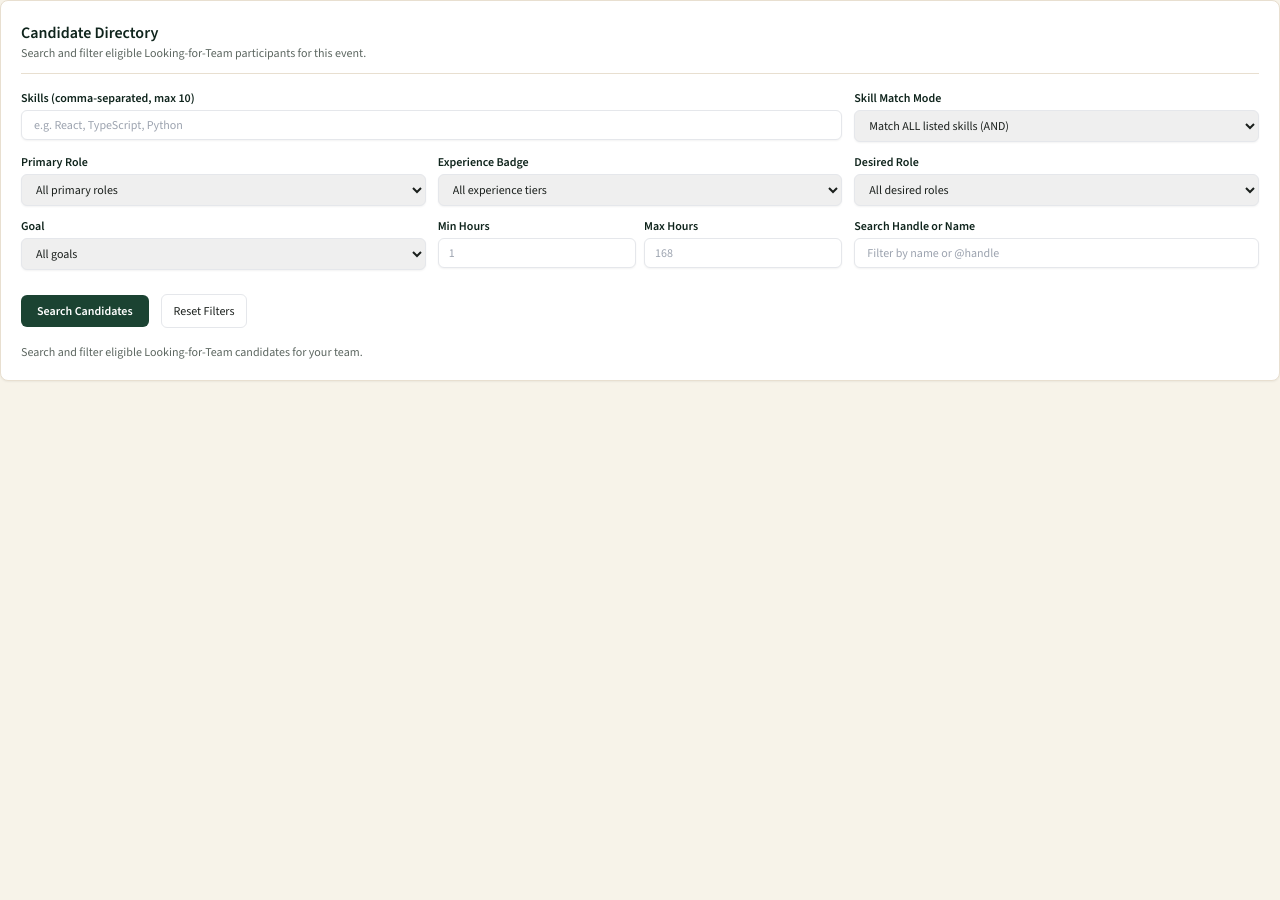
it: CandidateDirectoryPanel (US-014-T4 / #139) › preserves user input and previously loaded results on server error (NR-010, NR-017)
Type "React" into the field with test id "directory-skills-input" at {"x": 432, "y": 125}, box [21,110,842,140]
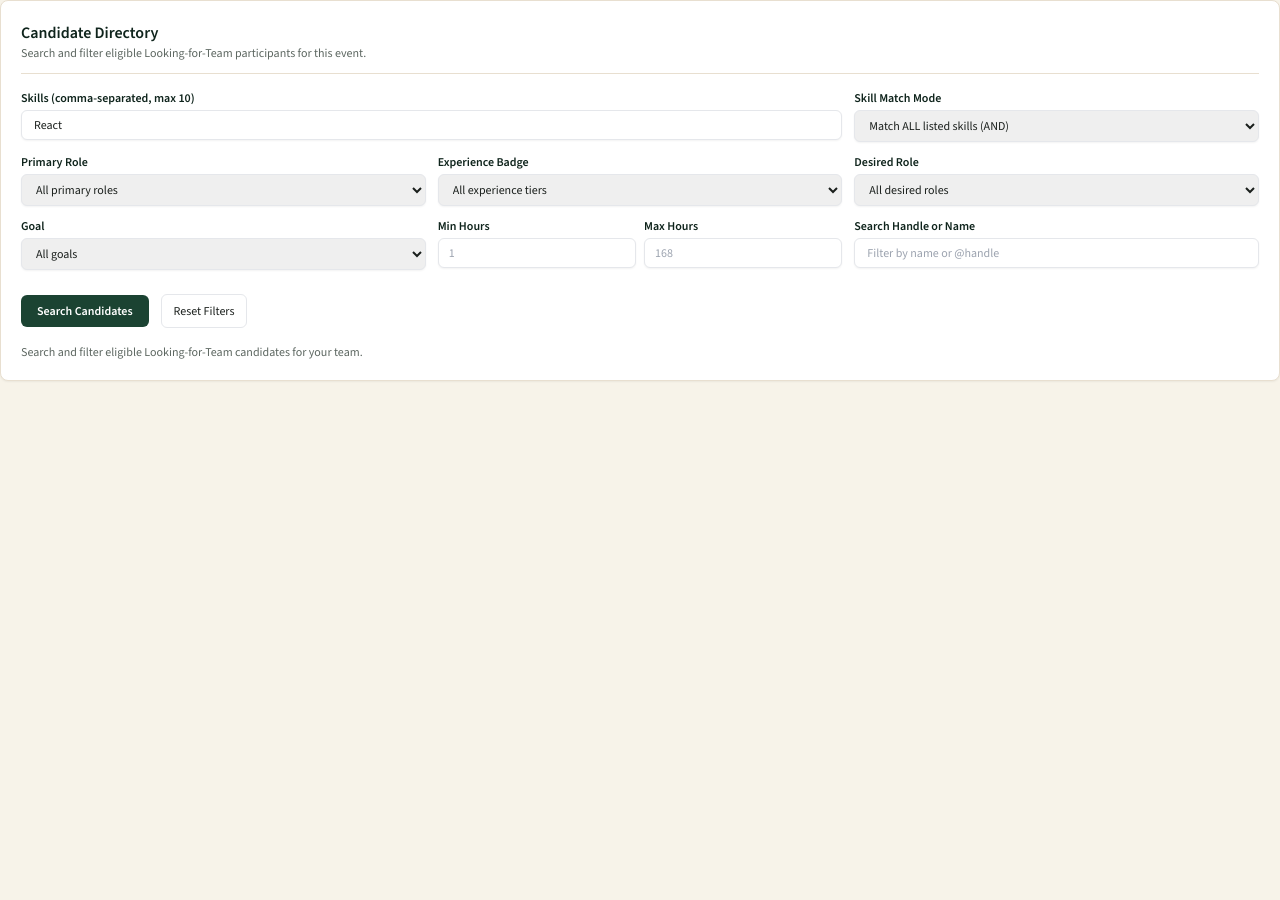
Click the button with test id "directory-search-submit" at {"x": 85, "y": 311}, box [21,295,149,327]
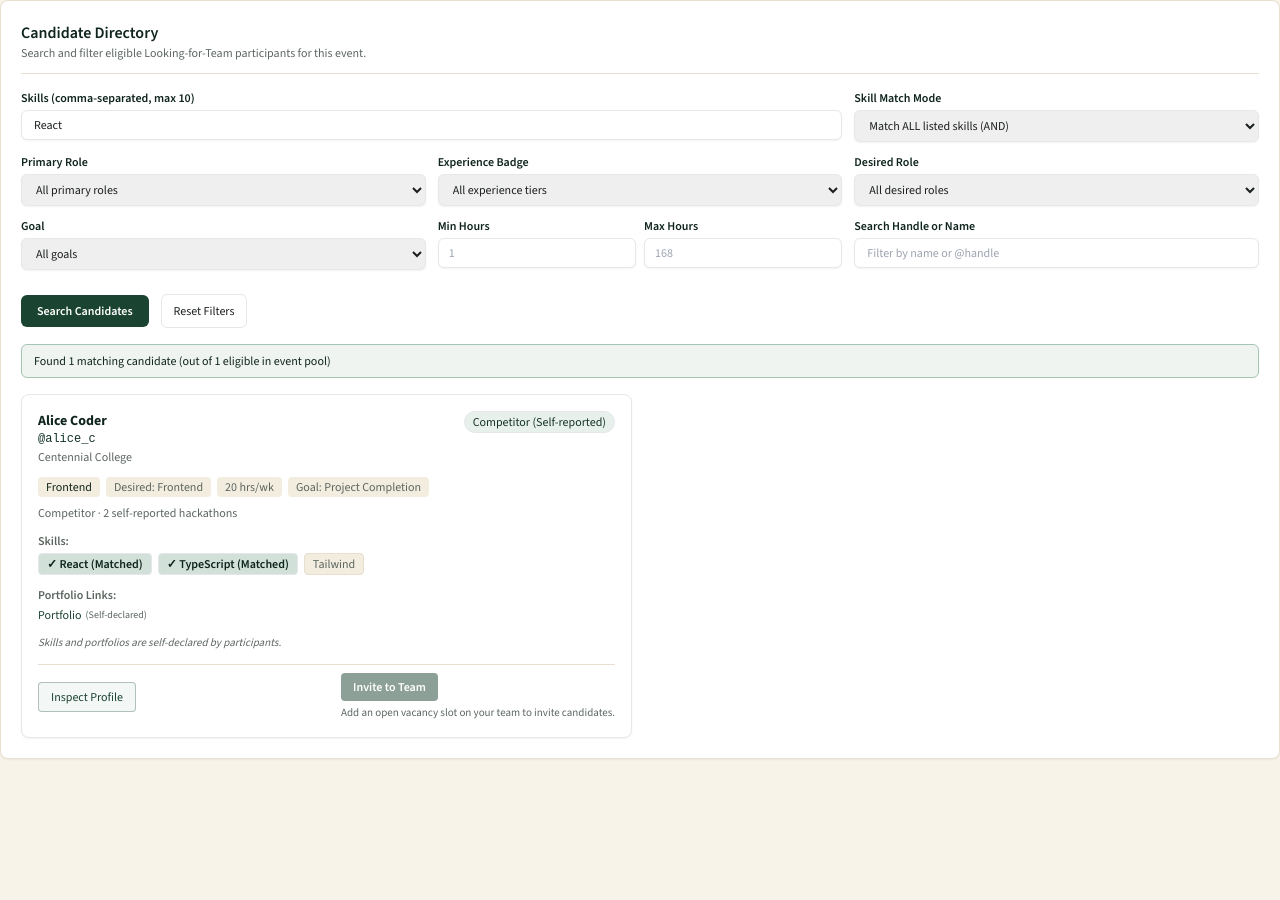
Expected: the heading with test id "candidate-display-name" reads "Alice Coder", [38,411,107,430]
Replace the text in the field with test id "directory-skills-input" with "React, Node" at {"x": 432, "y": 125}, box [21,110,842,140]
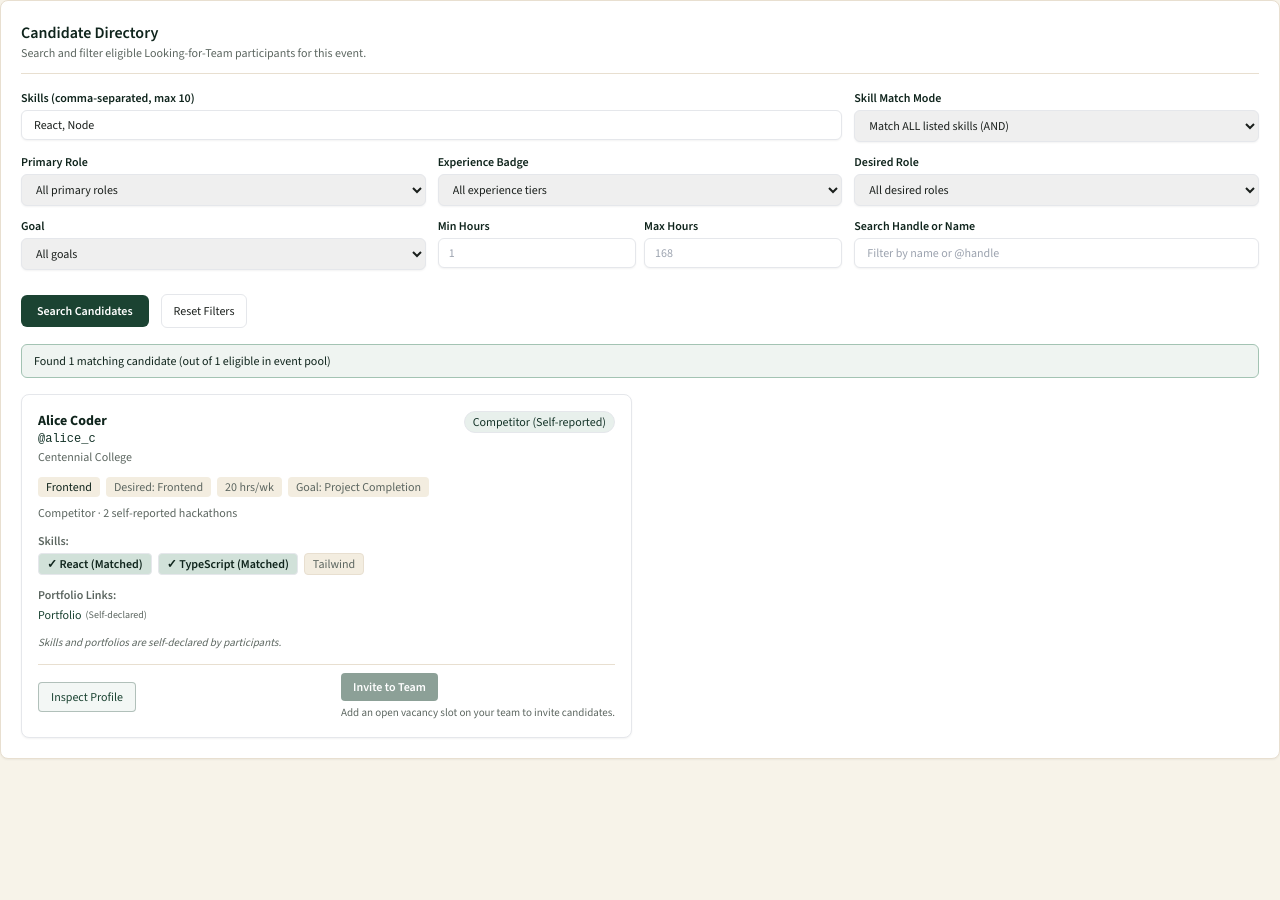
Click the button with test id "directory-search-submit" at {"x": 85, "y": 311}, box [21,295,149,327]
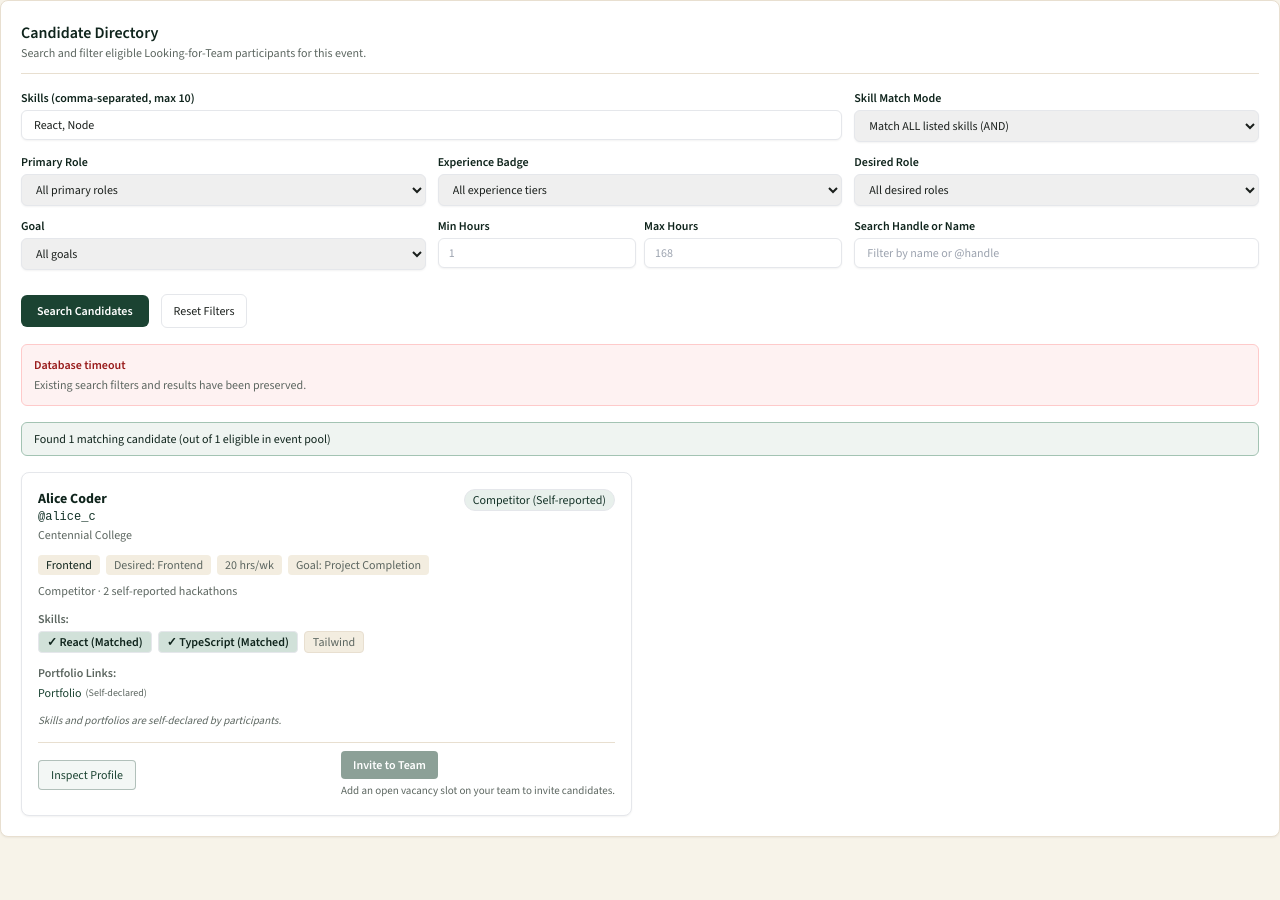
Expected: the heading with test id "candidate-display-name" reads "Alice Coder", [38,489,107,508]
Expected: the message "Database timeout Existing search filters and results have been preserved." is shown, [21,344,1259,406]
Expected: the message with test id "directory-error-banner" shows "Database timeout", [34,357,126,373]
